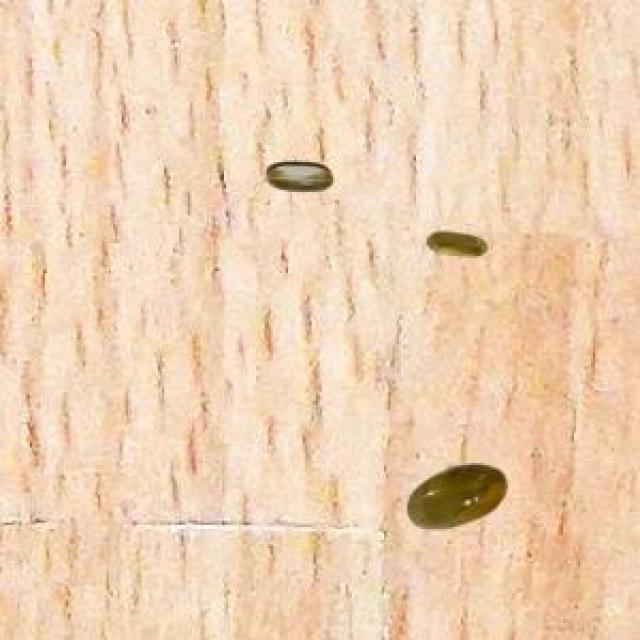Fish_Oil: (402, 457, 516, 537), (258, 142, 341, 205), (423, 220, 495, 276)
